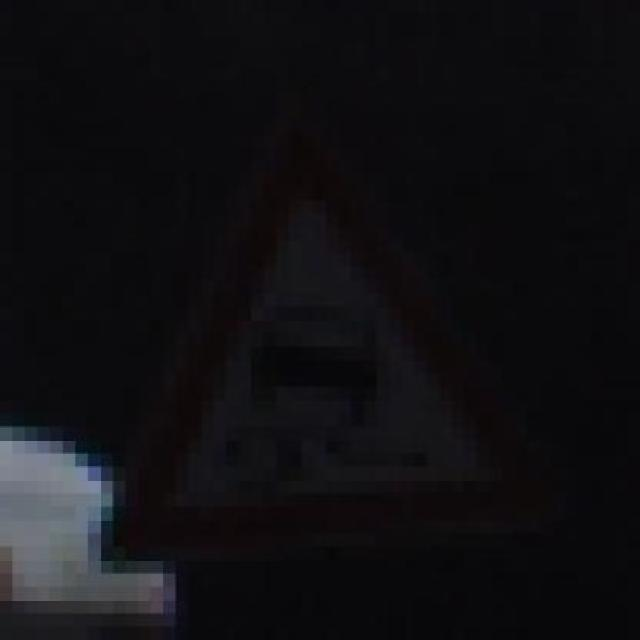Slippery Road Ahead: (66, 119, 519, 586)
